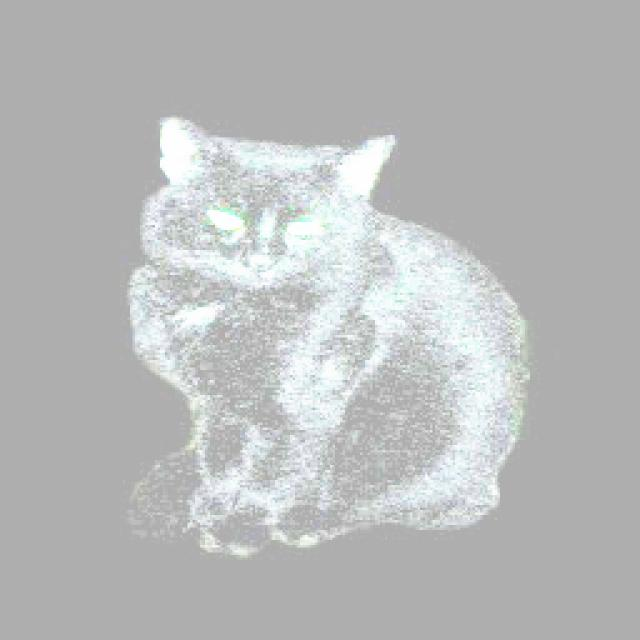cat: (78, 80, 552, 574)
